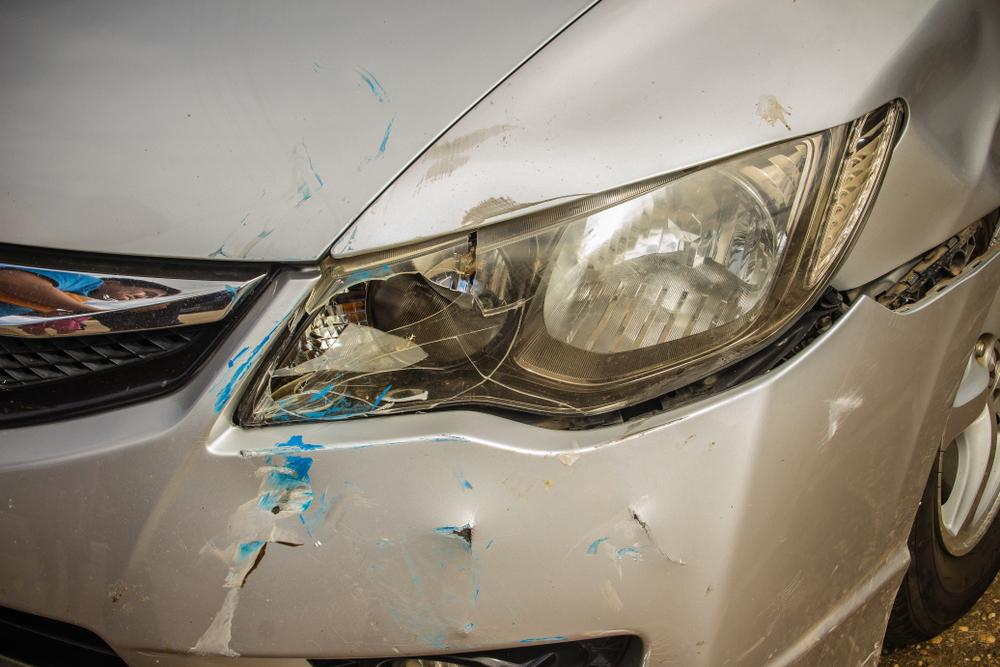dent: (873, 0, 1000, 181)
lamp broken: (234, 103, 906, 430)
scratch: (227, 70, 399, 261), (198, 442, 321, 661), (415, 123, 596, 224), (359, 521, 484, 647)
